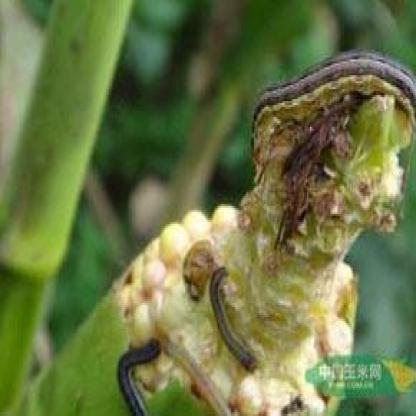armyworm: (248, 47, 416, 147), (210, 264, 254, 372), (118, 338, 163, 415)
